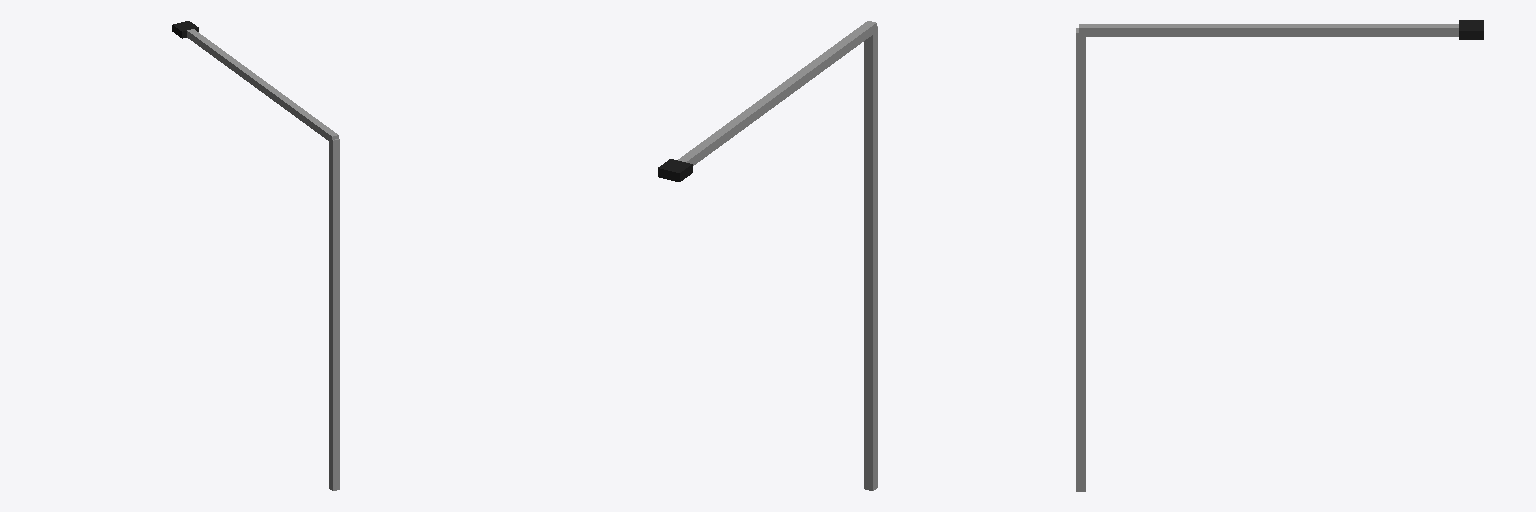
robot.urdf — cam1:
<?xml version="1.0"?>
<!-- created with Phobos 1.0.1 "Capricious Choutengan" -->
  <robot name="cam1">

    <link name="Untitled.070">
      <inertial>
        <origin xyz="0 0 0" rpy="0 0 0"/>
        <mass value="0.001"/>
        <inertia ixx="0.001" ixy="0" ixz="0" iyy="0.001" iyz="0" izz="0.001"/>
      </inertial>
      <visual name="Cube.020">
        <origin xyz="0 0 -1.0" rpy="0 0 0"/>
        <geometry>
          <box size="0.04 0.04 2.0"/>
        </geometry>
        <material name="Material.043"/>
      </visual>
    </link>

    <link name="Untitled.071">
      <inertial>
        <origin xyz="0 0 0" rpy="0 0 0"/>
        <mass value="0.001"/>
        <inertia ixx="0.001" ixy="0" ixz="0" iyy="0.001" iyz="0" izz="0.001"/>
      </inertial>
      <visual name="Cube.021">
        <origin xyz="0 0 0" rpy="0 0 0"/>
        <geometry>
          <box size="0.04 1.5 0.04"/>
        </geometry>
        <material name="Material.044"/>
      </visual>
    </link>

    <link name="Untitled.072">
      <inertial>
        <origin xyz="0 0 0" rpy="0 0 0"/>
        <mass value="0.001"/>
        <inertia ixx="0.001" ixy="0" ixz="0" iyy="0.001" iyz="0" izz="0.001"/>
      </inertial>
      <visual name="Cube.022">
        <origin xyz="0 0 0" rpy="0 0 0"/>
        <geometry>
          <box size="0.1 0.1 0.04"/>
        </geometry>
        <material name="Material.045"/>
      </visual>
    </link>

    <joint name="Untitled.071" type="fixed">
      <origin xyz="0 0.74 0" rpy="0 0 0"/>
      <parent link="Untitled.070"/>
      <child link="Untitled.071"/>
    </joint>

    <joint name="Untitled.072" type="fixed">
      <origin xyz="0 0.8 0" rpy="0 0 0"/>
      <parent link="Untitled.071"/>
      <child link="Untitled.072"/>
    </joint>

    <material name="Material.043">
      <color rgba="0.64 0.64 0.64 1.0"/>
    </material>

    <material name="Material.044">
      <color rgba="0.64 0.64 0.64 1.0"/>
    </material>

    <material name="Material.045">
      <color rgba="0.16 0.16 0.16 1.0"/>
    </material>

  </robot>

--- What the picture shows (computed from the rendered views, not written in the file) ---
The picture shows the robot from 3 angles, left to right: view 1: azimuth 30°, elevation 25°; view 2: azimuth 150°, elevation 25°; view 3: azimuth 270°, elevation 25°; orthographic projection.
Model cam1 with 3 links and 2 joints (2 fixed), rooted at Untitled.070, posed all joints at 0.
Visible links, largest first — view 1: Untitled.070, Untitled.071; view 2: Untitled.070, Untitled.071, Untitled.072; view 3: Untitled.071, Untitled.070.
Link boxes in pixels (x1,y1,x2,y2): Untitled.070: (329,139,339,490); Untitled.071: (187,29,338,142); Untitled.070: (864,26,877,490); Untitled.071: (678,21,876,165); Untitled.072: (658,159,692,181); Untitled.071: (1079,24,1458,36); Untitled.070: (1076,28,1085,491).
Bounding box of the posed robot: 0.1 × 1.61 × 2.02 m (x, y, z).
Geometry: primitives only (box / cylinder / sphere), no mesh files.
